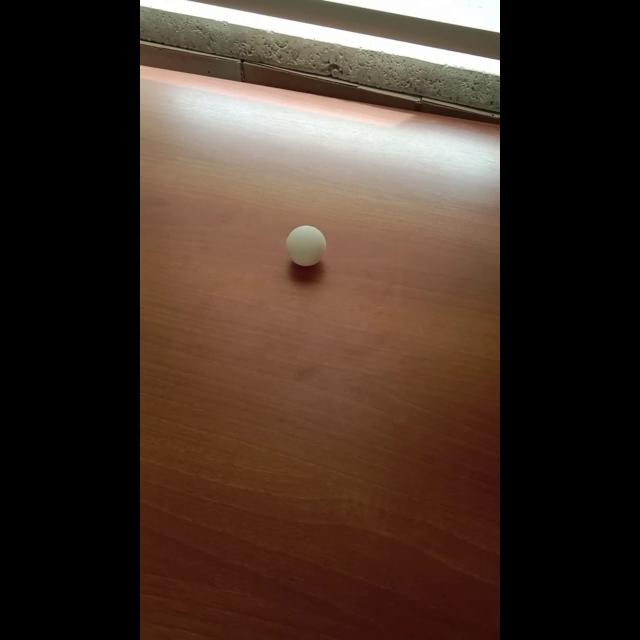white ball: (285, 225, 327, 267)
